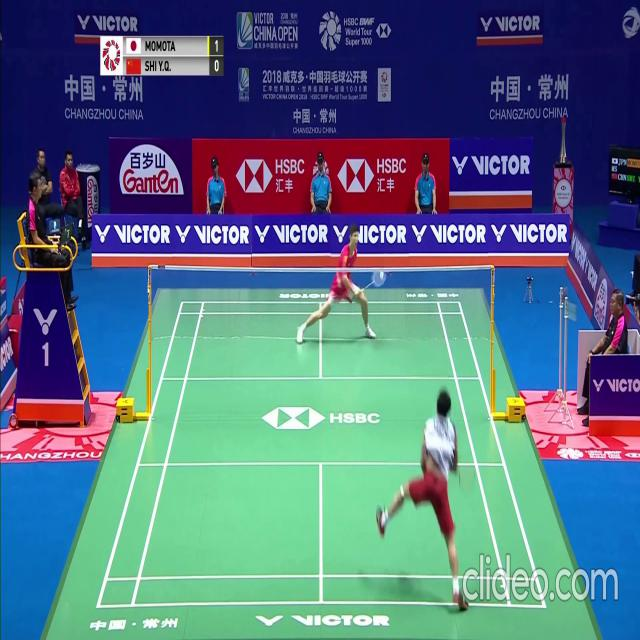Shuttlecock: (379, 271, 384, 279)
